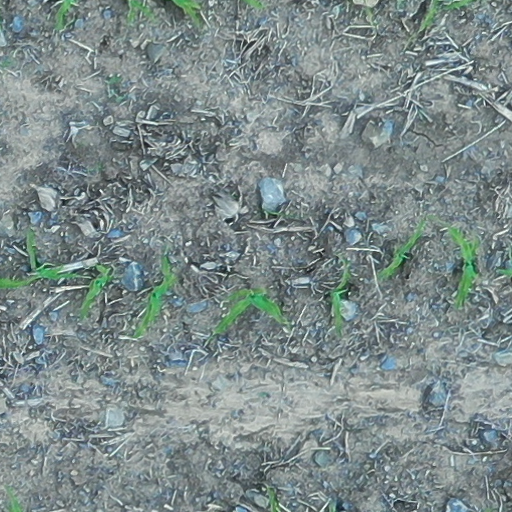planta: (134, 258, 176, 336), (214, 289, 284, 333), (378, 221, 425, 278), (447, 224, 479, 305), (27, 232, 79, 279), (80, 265, 111, 317), (331, 259, 349, 330)
